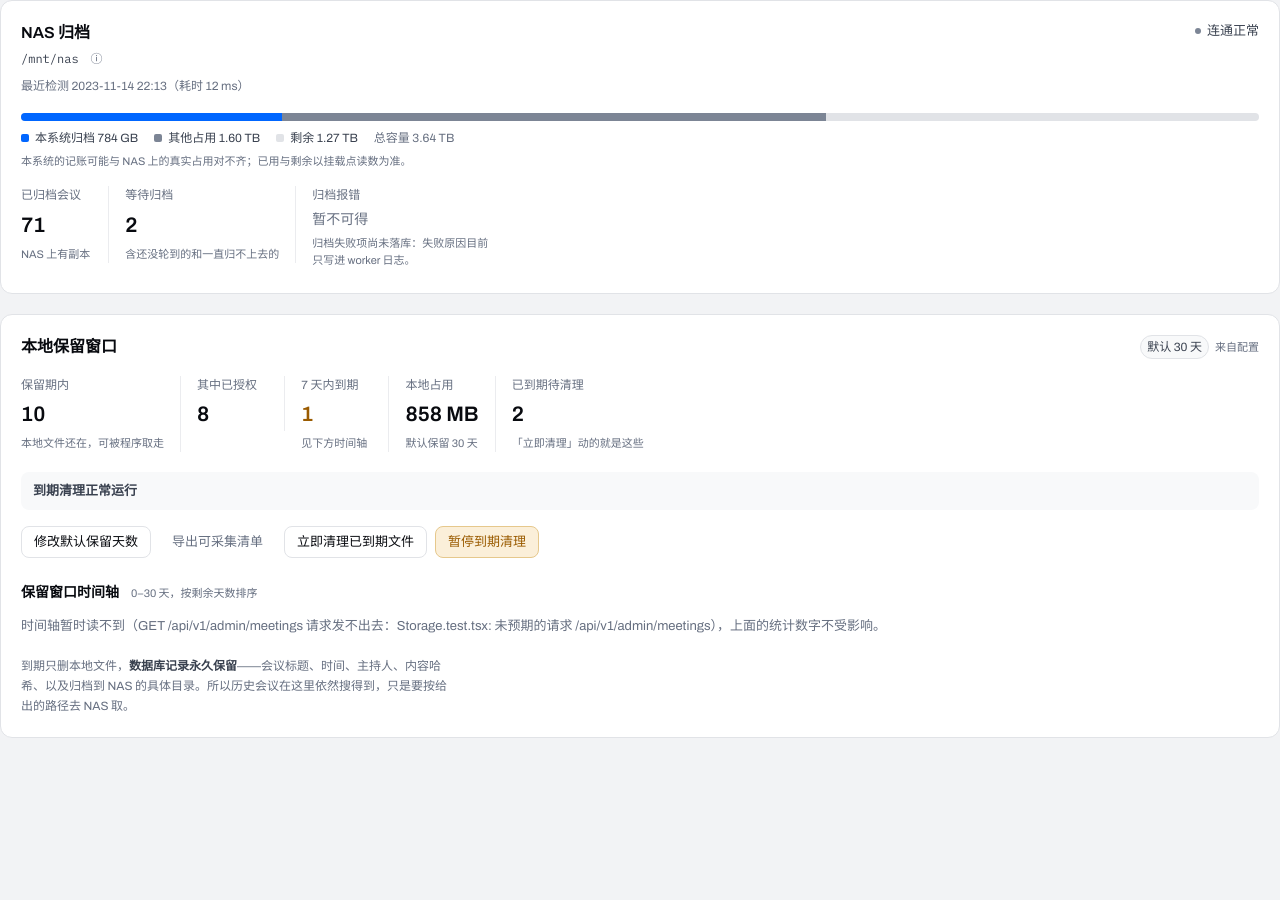
暂停到期清理（系统状态横幅链到这一页的那个动作） › 点「暂停到期清理」→ 发请求 → 重取 → 界面照库里的真值显示
Check: the heading "NAS 归档" is shown, box top-left (21, 24), bottom-right (90, 41)
Check: the element with test id "cleanup-state" shows "正常运行", box top-left (33, 484), bottom-right (137, 498)
Click the button "暂停到期清理" at (487, 542), box top-left (435, 526), bottom-right (539, 558)
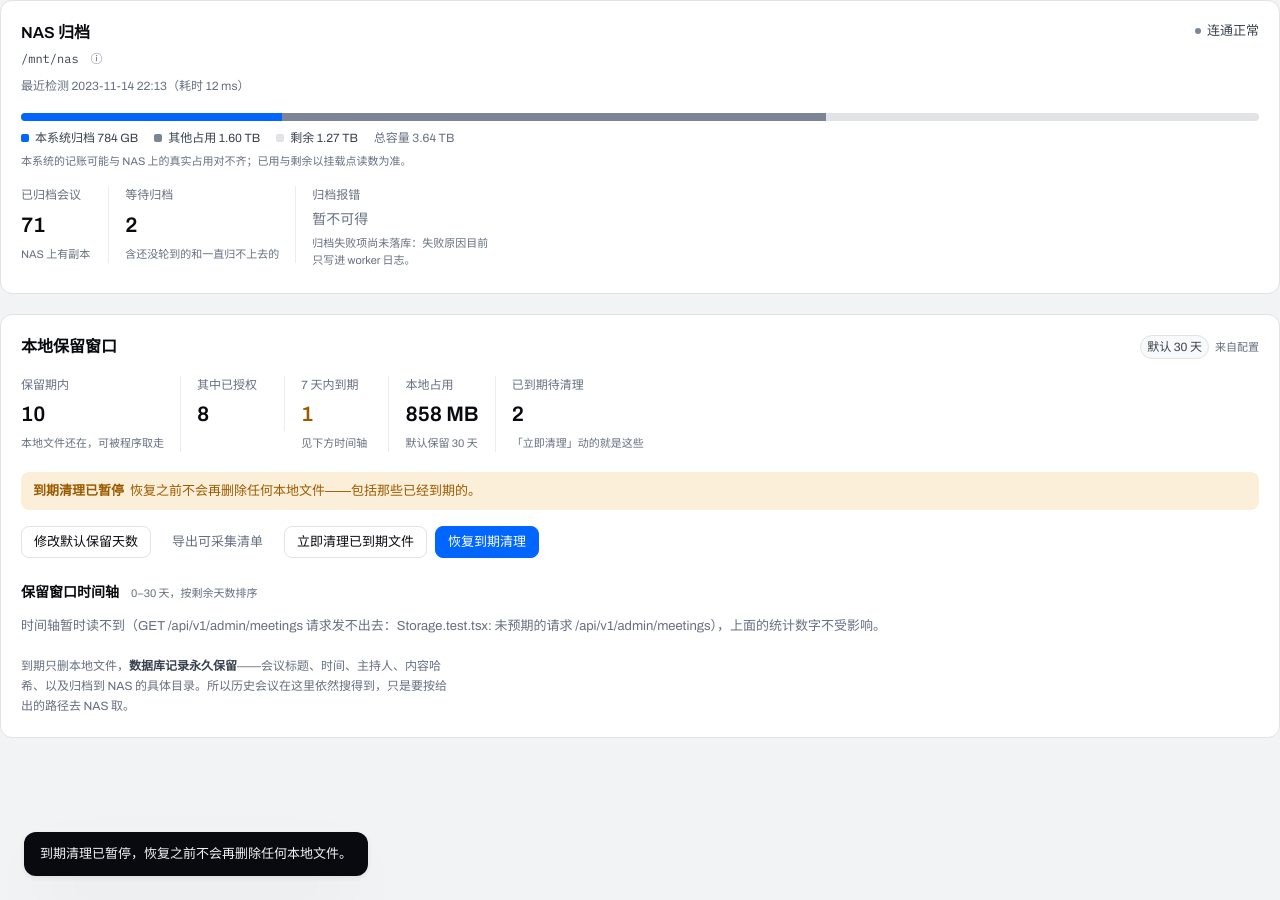
Check: the element with test id "cleanup-state" shows "已暂停", box top-left (21, 472), bottom-right (1259, 510)
